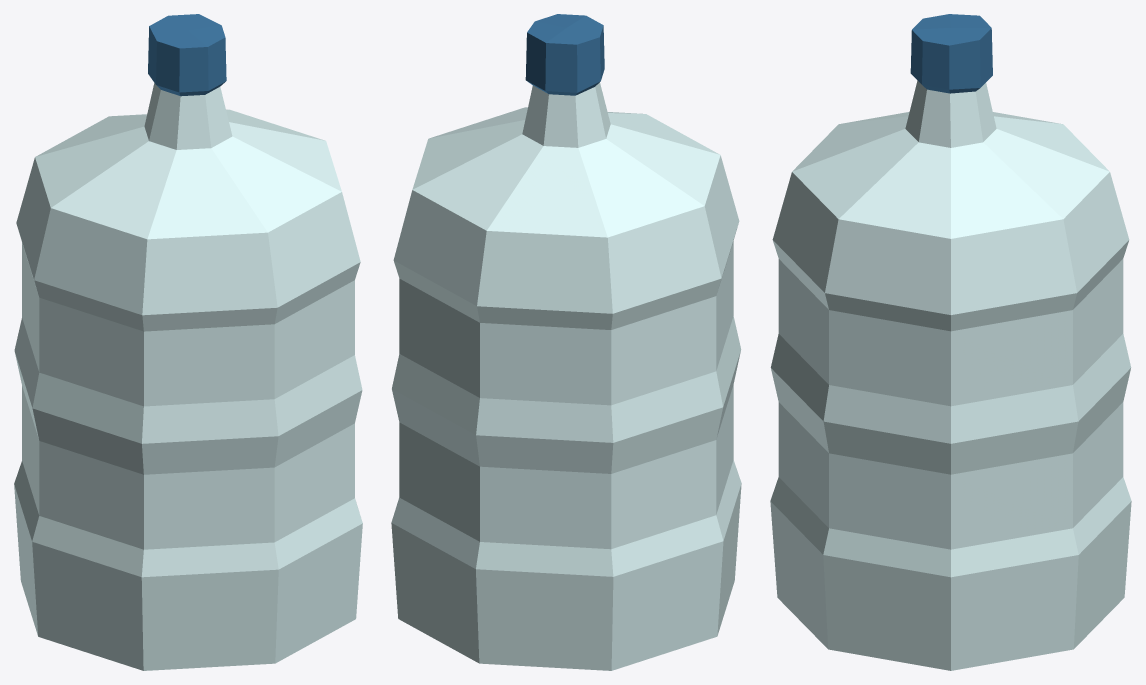
File: water-cooling-bottle.glb
The picture shows the model from 3 angles, left to right: view 1: azimuth 30°, elevation 25°; view 2: azimuth 150°, elevation 25°; view 3: azimuth 270°, elevation 25°; orthographic projection.
Parts seen in each view (by area): view 1: water-cooling-bottle; view 2: water-cooling-bottle; view 3: water-cooling-bottle.
Boxes of the visible parts, left/top/right/bottom form: water-cooling-bottle: left=14, top=14, right=362, bottom=670; water-cooling-bottle: left=391, top=14, right=741, bottom=670; water-cooling-bottle: left=770, top=14, right=1131, bottom=670.
Bounding box in the file's own units: 0.3036 × 0.533 × 0.3036.
Materials: 1 (1 with a texture image).
